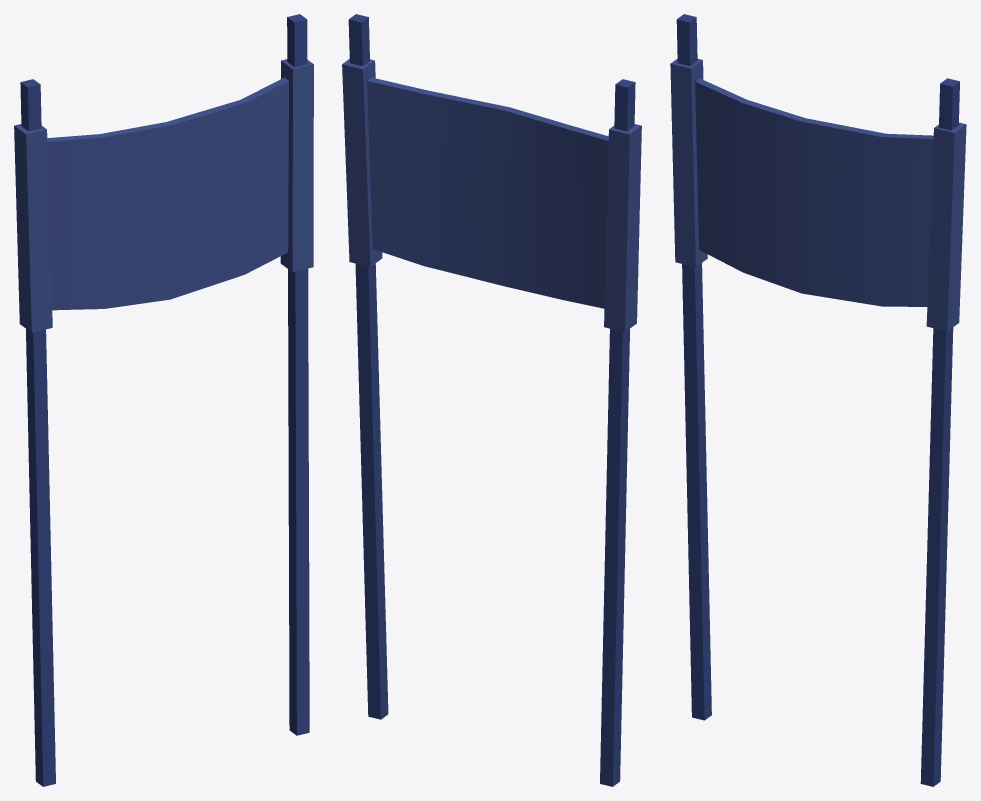
File: SM_Prop_Flag_01.glb
3 views of the same model, side by side, from view 1: azimuth 30°, elevation 25°; view 2: azimuth 150°, elevation 25°; view 3: azimuth 330°, elevation 25° (orthographic).
Parts seen in each view (by area): view 1: SM_Prop_Flag_01; view 2: SM_Prop_Flag_01; view 3: SM_Prop_Flag_01.
Boxes of the visible parts, x1,y1,x2,y2 form: SM_Prop_Flag_01: [14, 14, 313, 786]; SM_Prop_Flag_01: [342, 14, 641, 786]; SM_Prop_Flag_01: [670, 14, 966, 786].
Size of the model in its own units: 1.24 by 2.9 by 0.1551.
Materials: 1 (1 with a texture image).
